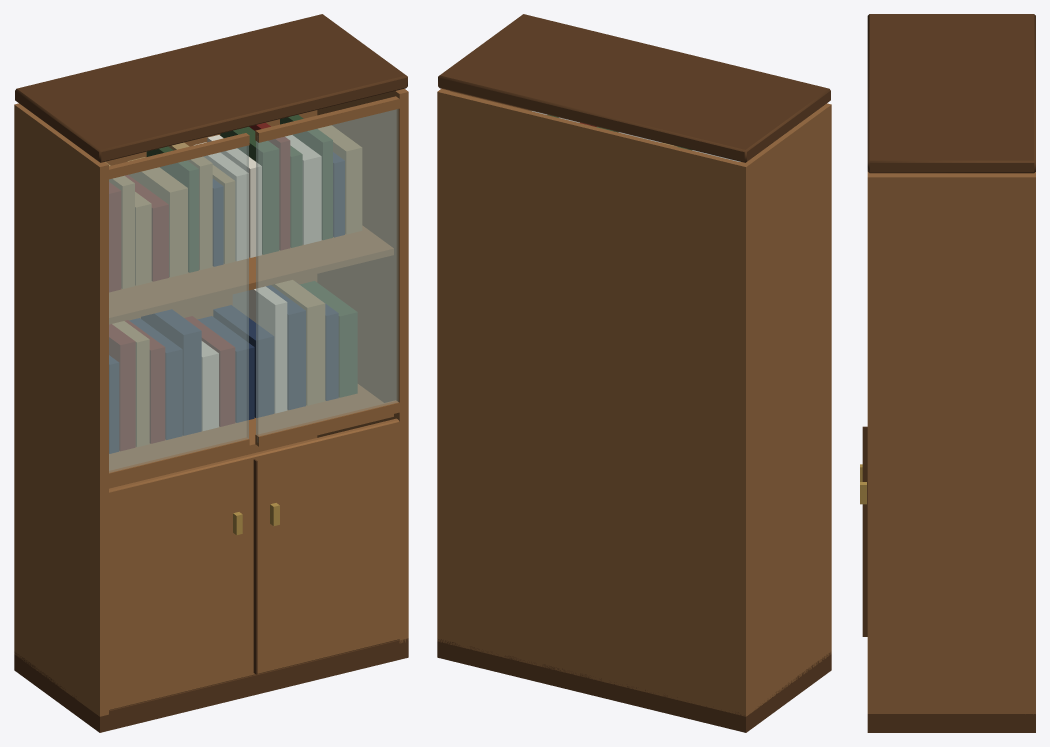
File: class_cabinet.glb
3 renders of one model, left to right at view 1: azimuth 30°, elevation 25°; view 2: azimuth 150°, elevation 25°; view 3: azimuth 270°, elevation 25°, orthographic.
Visible parts, largest first — view 1: ClassCabinet; view 2: ClassCabinet; view 3: ClassCabinet.
Part boxes in pixels (box(x1,y1,x2,y2)): ClassCabinet: box(14, 14, 408, 732); ClassCabinet: box(437, 14, 831, 732); ClassCabinet: box(860, 14, 1035, 732).
Size of the model in its own units: 1 by 1.8 by 0.502.
